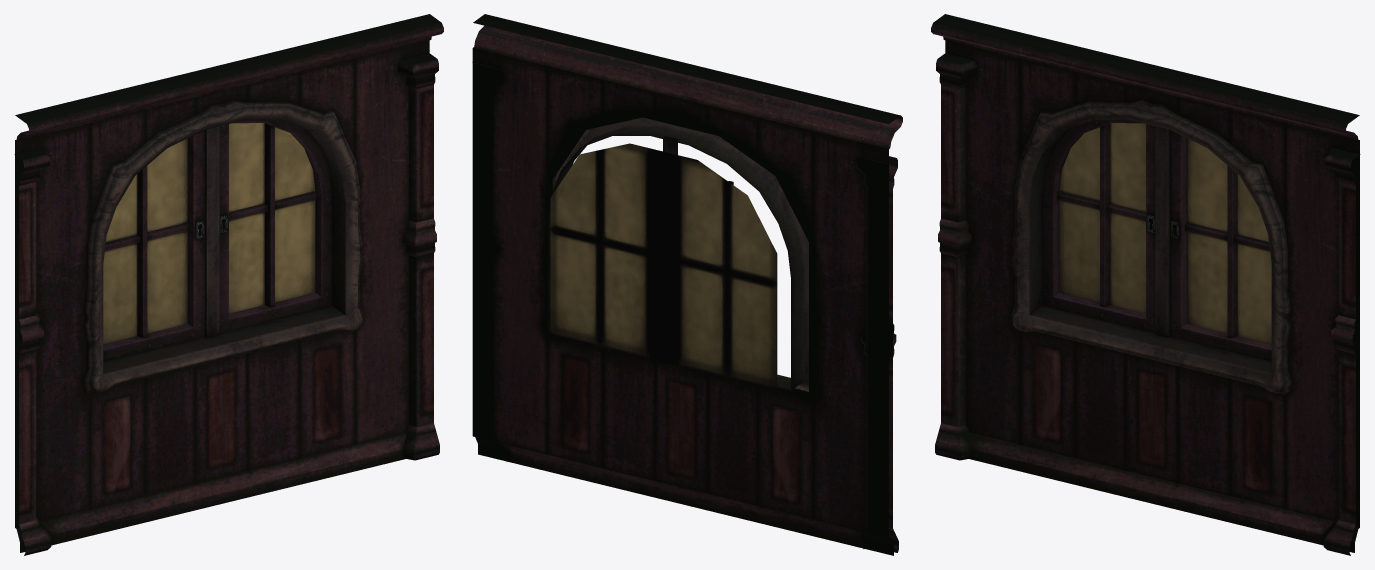
File: 42_window02_yellow.dae
The picture shows the model from 3 angles, left to right: view 1: azimuth 30°, elevation 25°; view 2: azimuth 150°, elevation 25°; view 3: azimuth 330°, elevation 25°; orthographic projection.
Visible parts, largest first — view 1: mansionbase02_window, mansionbase_window_frame1, mansionbase_window_blue; view 2: mansionbase02_window, mansionbase_window_blue, mansionbase_window_frame1; view 3: mansionbase02_window, mansionbase_window_frame1, mansionbase_window_blue.
Part boxes in pixels (x1=…): mansionbase02_window: x1=14, y1=14, x2=443, y2=555; mansionbase_window_frame1: x1=82, y1=100, x2=363, y2=394; mansionbase_window_blue: x1=103, y1=123, x2=315, y2=344; mansionbase02_window: x1=472, y1=14, x2=902, y2=555; mansionbase_window_blue: x1=550, y1=143, x2=777, y2=390; mansionbase_window_frame1: x1=540, y1=110, x2=819, y2=403; mansionbase02_window: x1=931, y1=14, x2=1360, y2=555; mansionbase_window_frame1: x1=1011, y1=100, x2=1292, y2=394; mansionbase_window_blue: x1=1059, y1=123, x2=1271, y2=344.
Size of the model in its own units: 4 by 4 by 0.5209.
